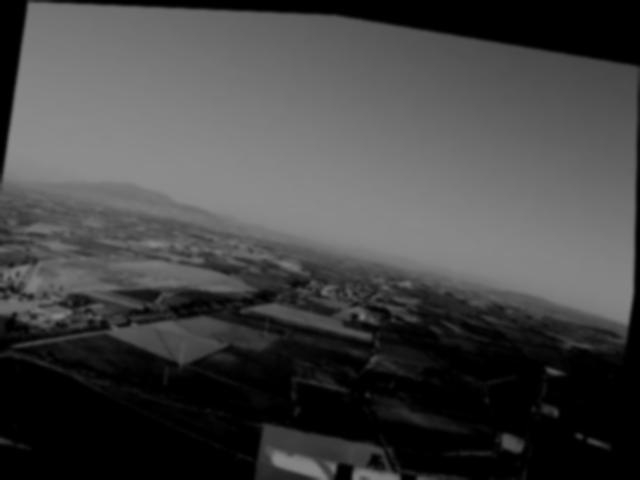hedef: (254, 409, 507, 480)
